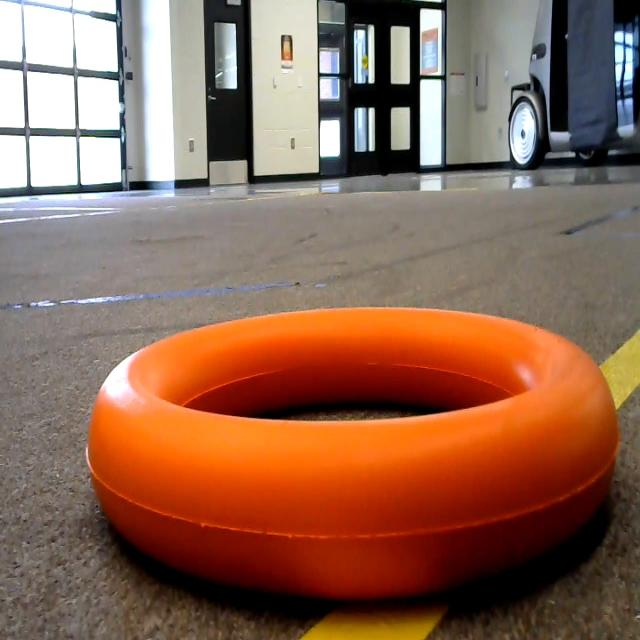note: (65, 296, 640, 611)
